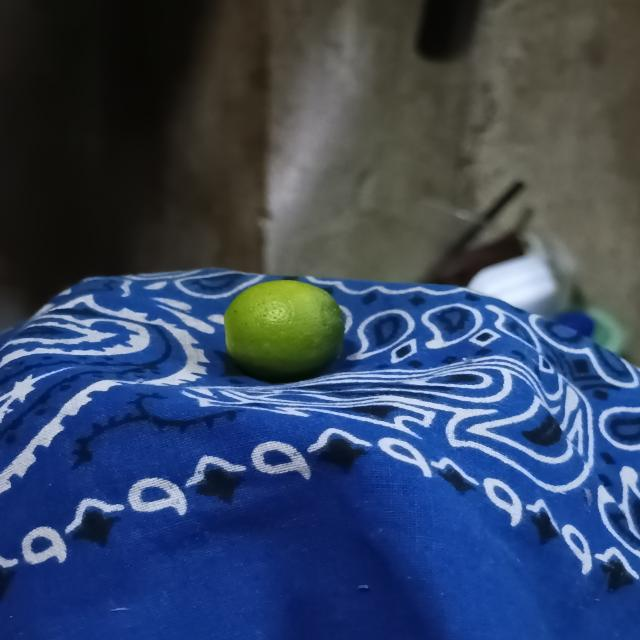heathy: (222, 275, 342, 377)
